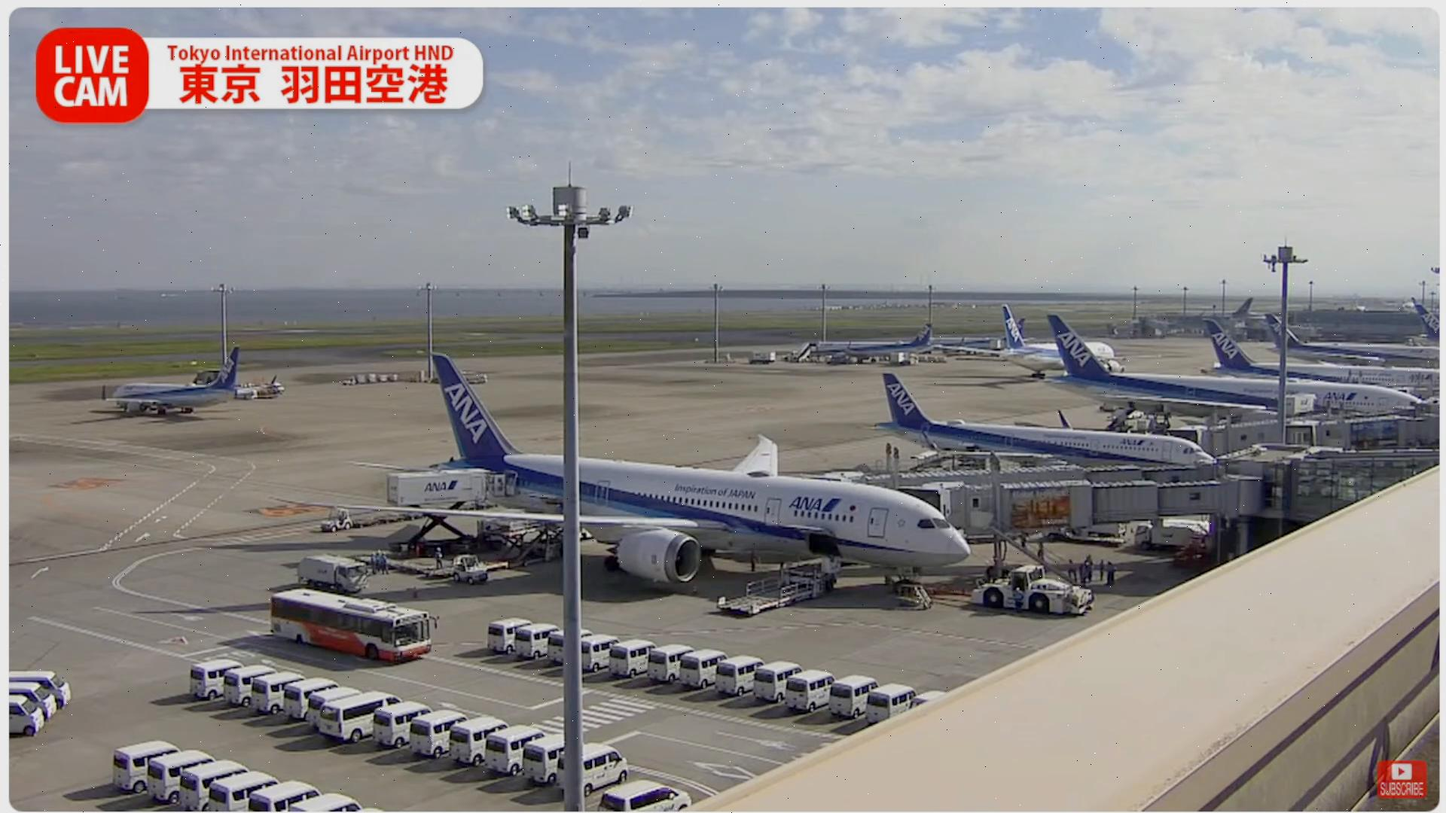APS: (969, 564, 1106, 619)
Aerobridge: (899, 476, 1264, 540), (843, 457, 1217, 496)
Airplane: (330, 354, 973, 599)
Baggage truck: (281, 544, 376, 602)
Catering: (387, 467, 515, 558)
Dolly: (359, 551, 456, 578), (352, 510, 428, 529)
JCPL: (714, 553, 842, 618), (481, 516, 567, 568)
Tractor: (452, 551, 489, 584), (321, 503, 354, 534)
Window: (1290, 456, 1440, 523)
